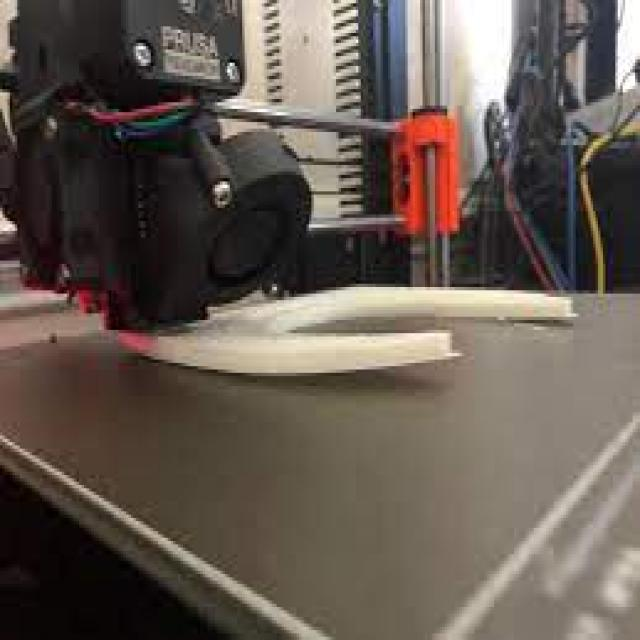Warping: (251, 323, 478, 427)
